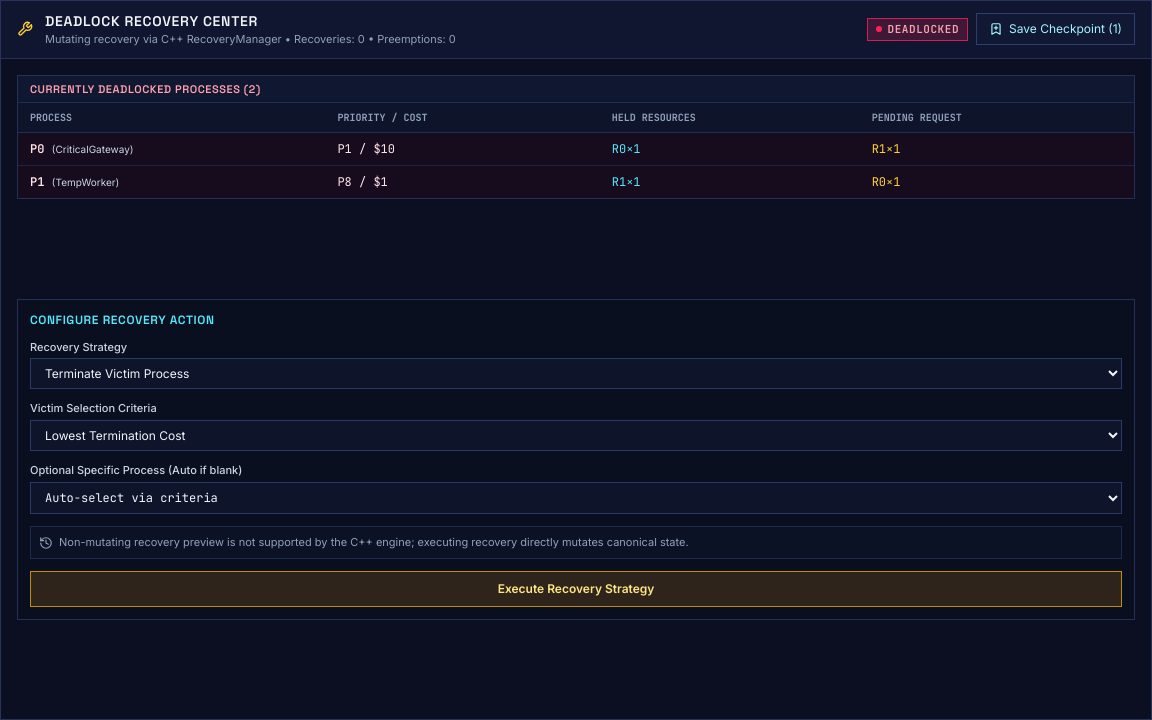
Scenario: Phase 6D Recovery Center & 6E Process/Resource Manager › synchronizes canonical store state when partial recovery returns HTTP 409 DEADLOCK_UNRESOLVED
This screenshot has width=1152, height=720.
What coordinates should you click on to do the following:
click the button "Execute Recovery Strategy"
I would click on:
 (576, 589)
Its box is top-left (30, 571), bottom-right (1122, 607).
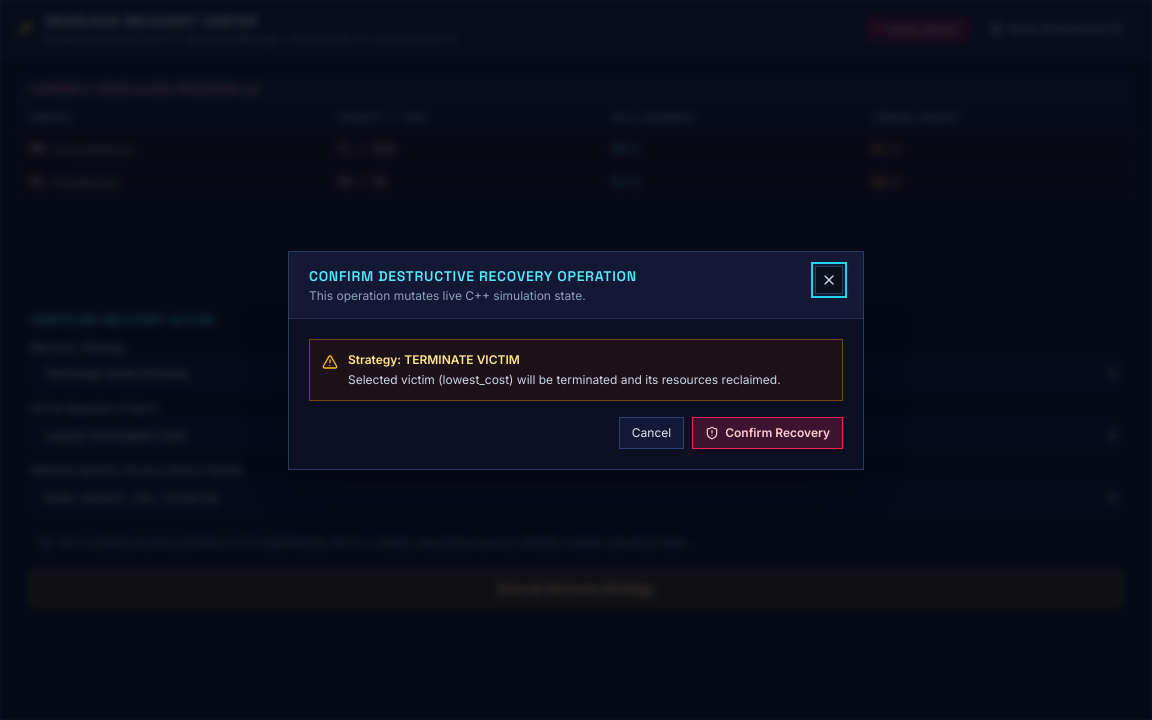
What coordinates should you click on to do the following:
click the button "Confirm Recovery"
I would click on:
 (768, 432)
Its box is top-left (692, 416), bottom-right (843, 448).
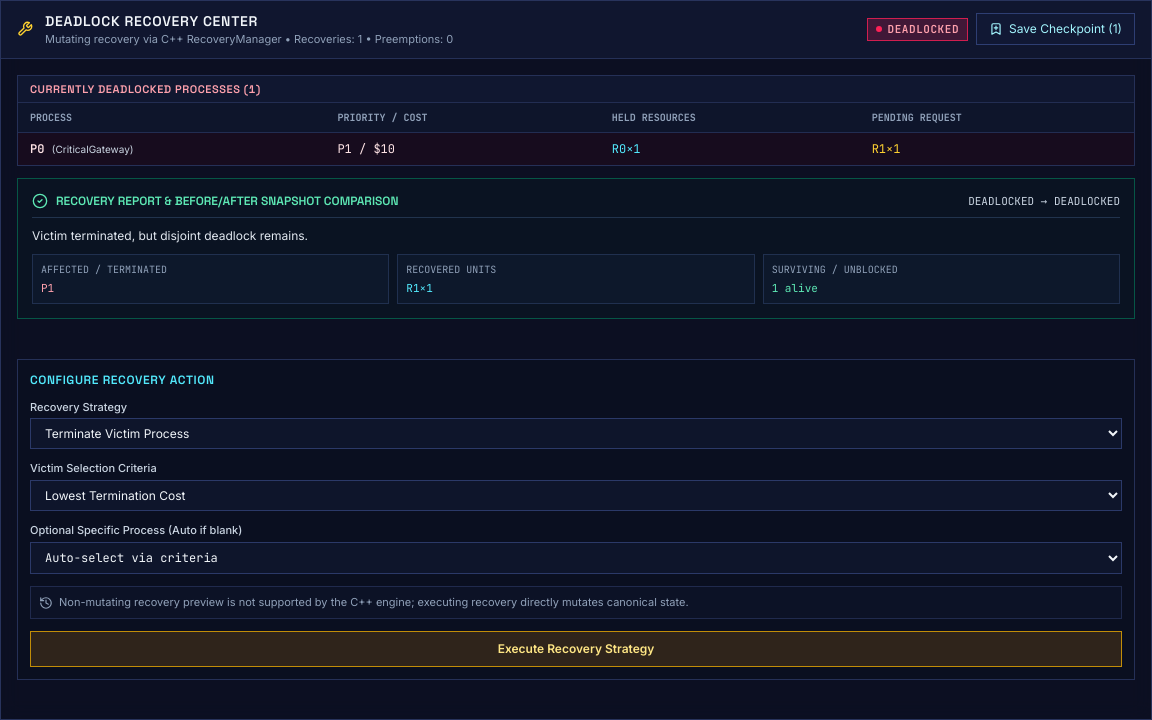
Expected: the text "Victim terminated, but disjoint deadlock remains." is shown, top-left (32, 228), bottom-right (308, 244)
